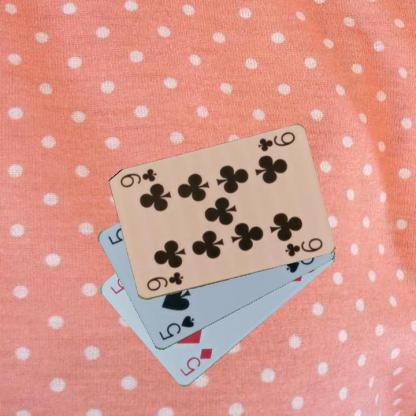5d: (177, 345, 214, 378)
5s: (156, 313, 196, 342)
9c: (144, 269, 185, 293), (255, 129, 296, 153)
